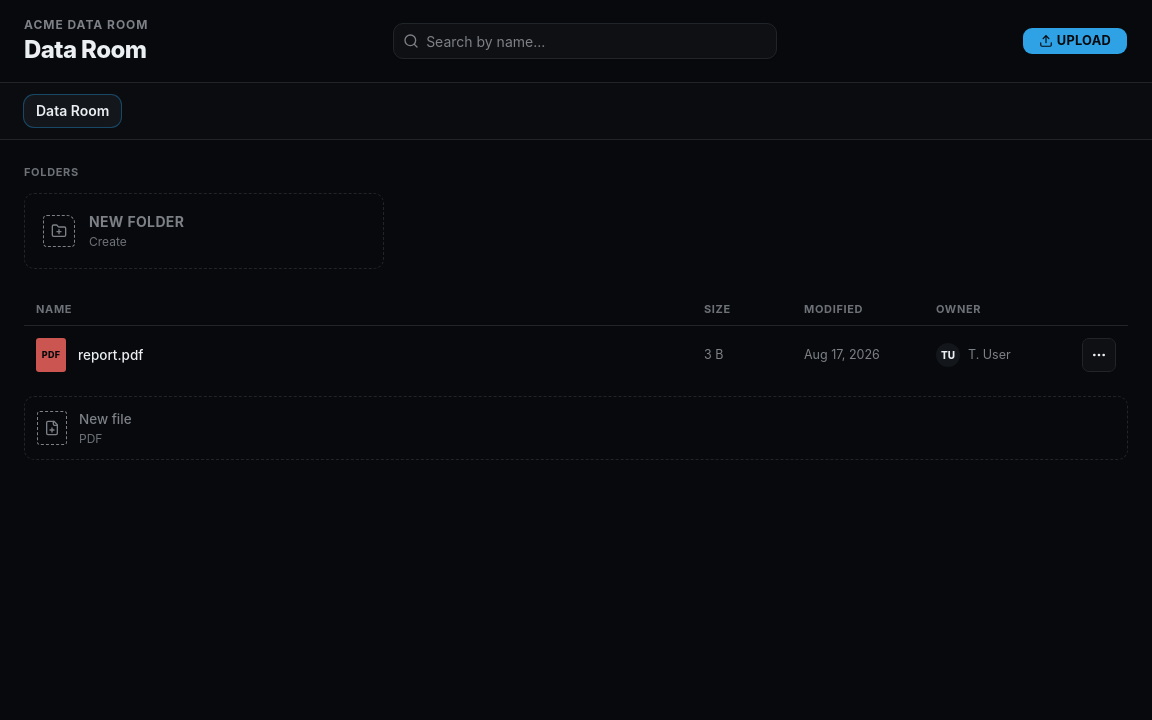
it: optimistic delete › removes a file from the grid before deleteFile resolves
Click the button named "Actions for report.pdf" at (1099, 355), box [1082, 338, 1116, 372]
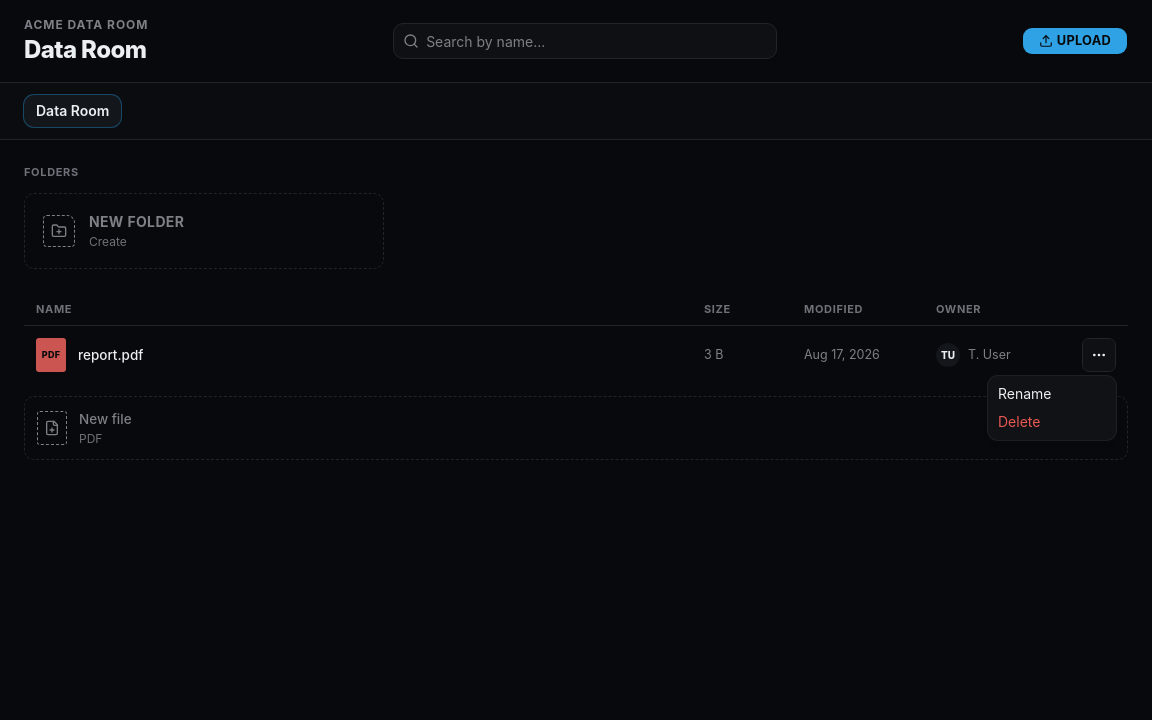
Click the menu item "Delete" at (1019, 422), box [998, 413, 1040, 430]
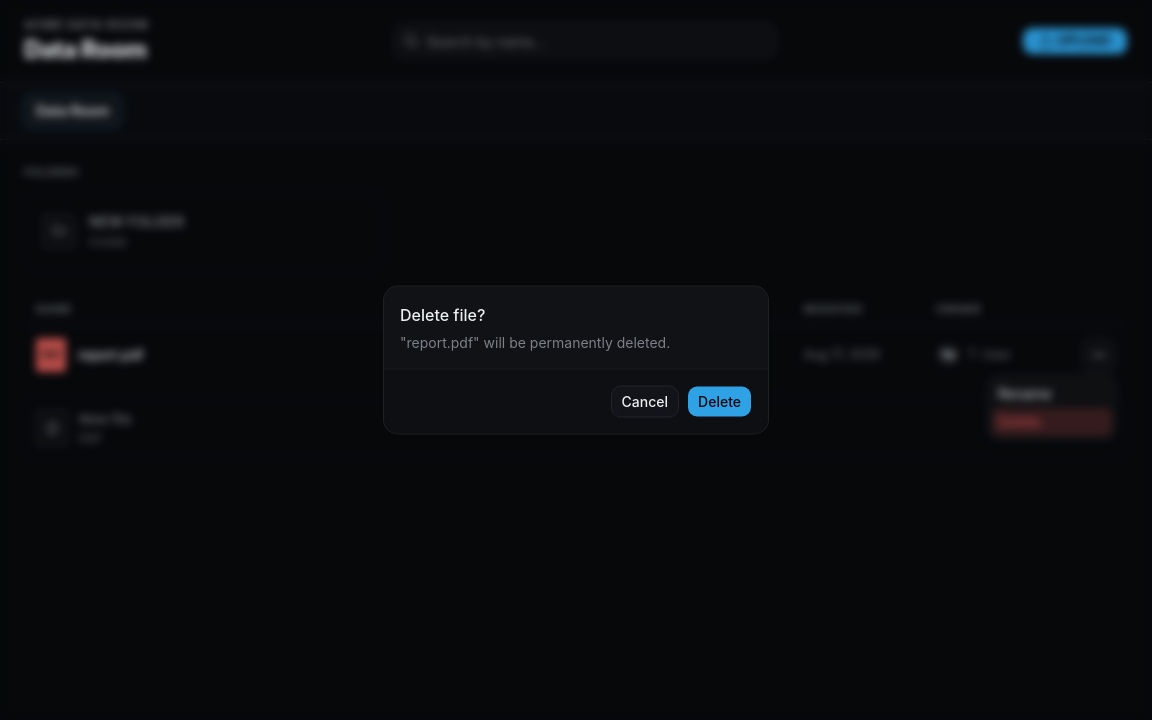
Click the button "Delete" at (720, 402), box [687, 386, 752, 418]
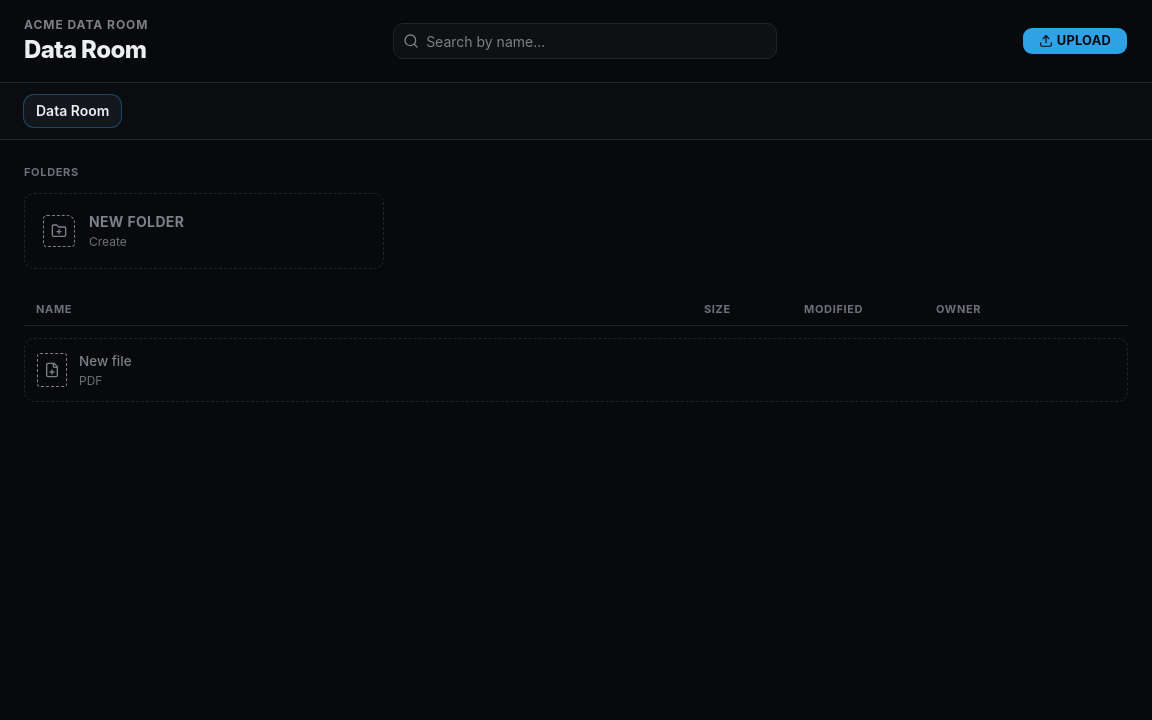
Expected: the dialog is gone
